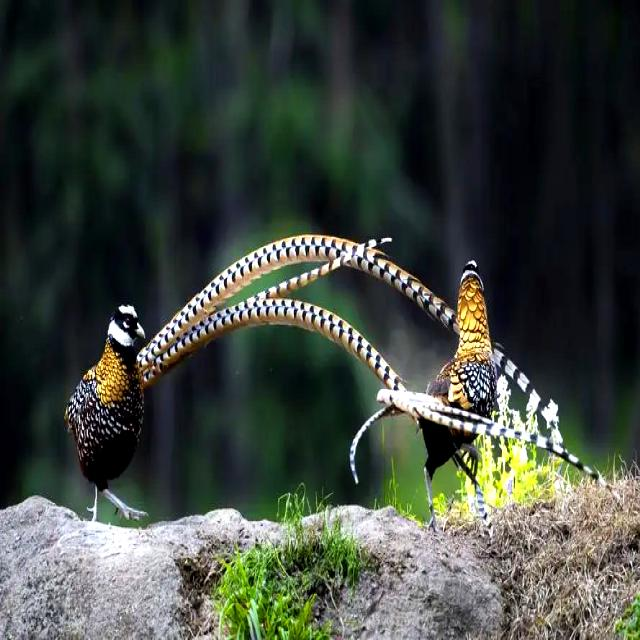Reeves-s Pheasant: (137, 233, 562, 446), (349, 389, 623, 504)
